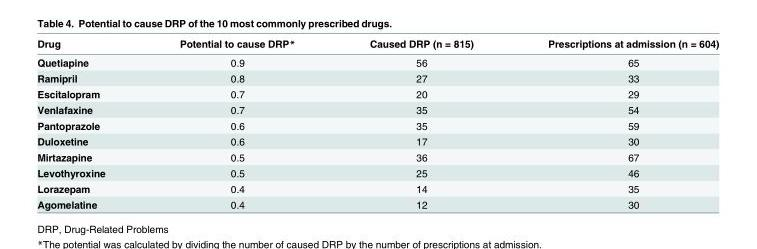table: (36, 37, 718, 209)
table column: (510, 37, 718, 209), (141, 37, 331, 209), (331, 37, 510, 209), (36, 37, 141, 209)
table column header: (36, 37, 718, 52)
table row: (36, 52, 718, 69), (36, 69, 718, 85), (36, 85, 718, 101), (36, 101, 718, 117), (36, 117, 718, 133), (36, 148, 718, 164), (36, 164, 718, 180), (36, 180, 718, 196), (36, 37, 718, 52), (36, 133, 718, 148), (36, 196, 718, 209)
